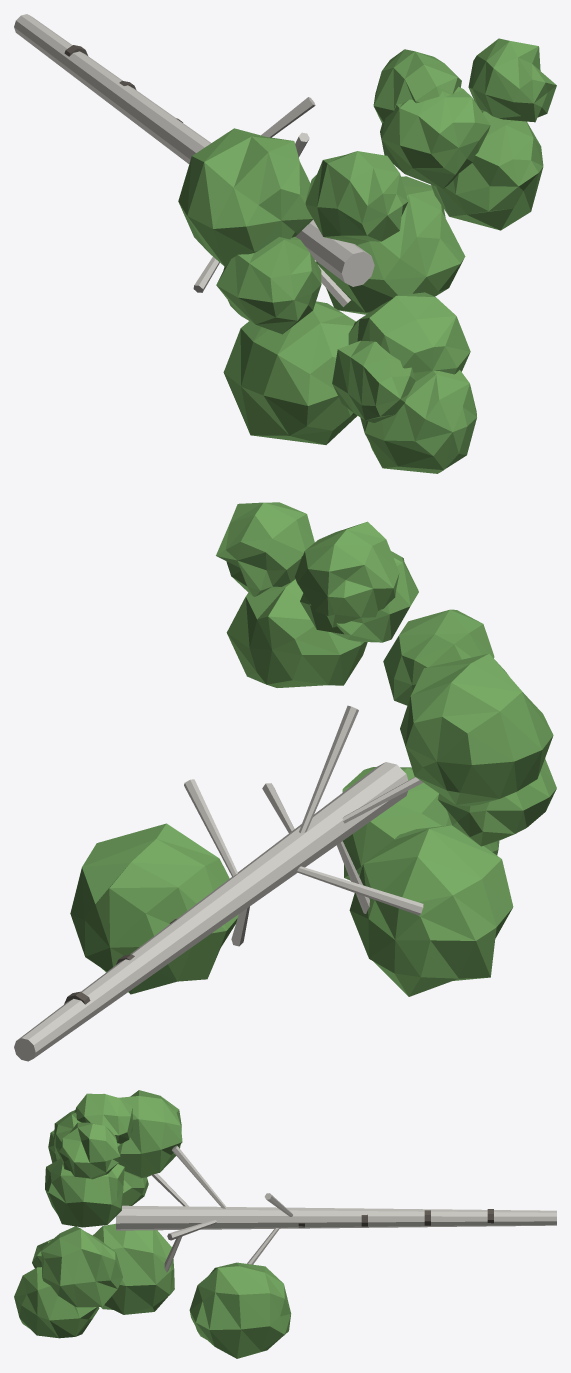
The model's file is birch_tree.glb.
3 views of the same model, one above another, from view 1: azimuth 30°, elevation 25°; view 2: azimuth 150°, elevation 25°; view 3: azimuth 270°, elevation 25° (orthographic). The views are drawn at different scales.
Visible parts, largest first — view 1: geometry_0; view 2: geometry_0; view 3: geometry_0.
Part boxes in pixels (x1,y1,x2,y2): geometry_0: (14,14,556,473); geometry_0: (14,502,556,1061); geometry_0: (14,1090,556,1358).
Size of the model in its own units: 2.05 by 2.22 by 4.31.
